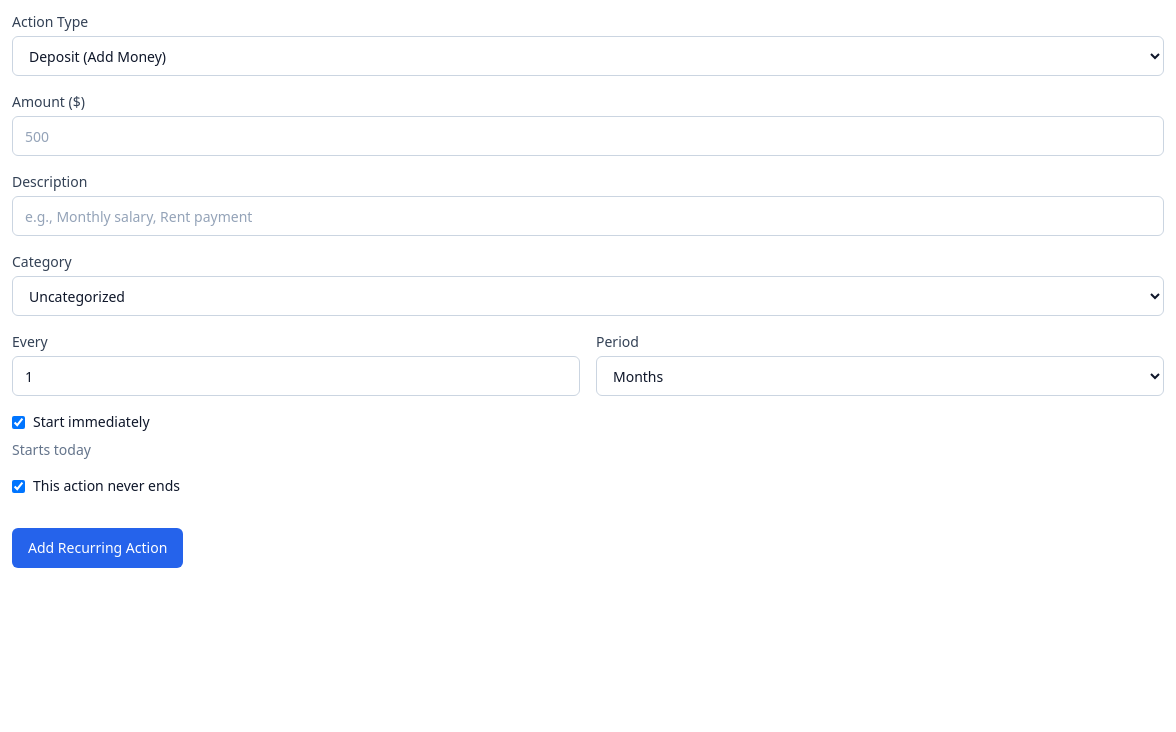
Test case: RecurringActionForm (create mode) › reveals an end date picker when "This action never ends" is unchecked
Click the checkbox labelled "This action never ends" at (18, 486), box [12,480,25,492]
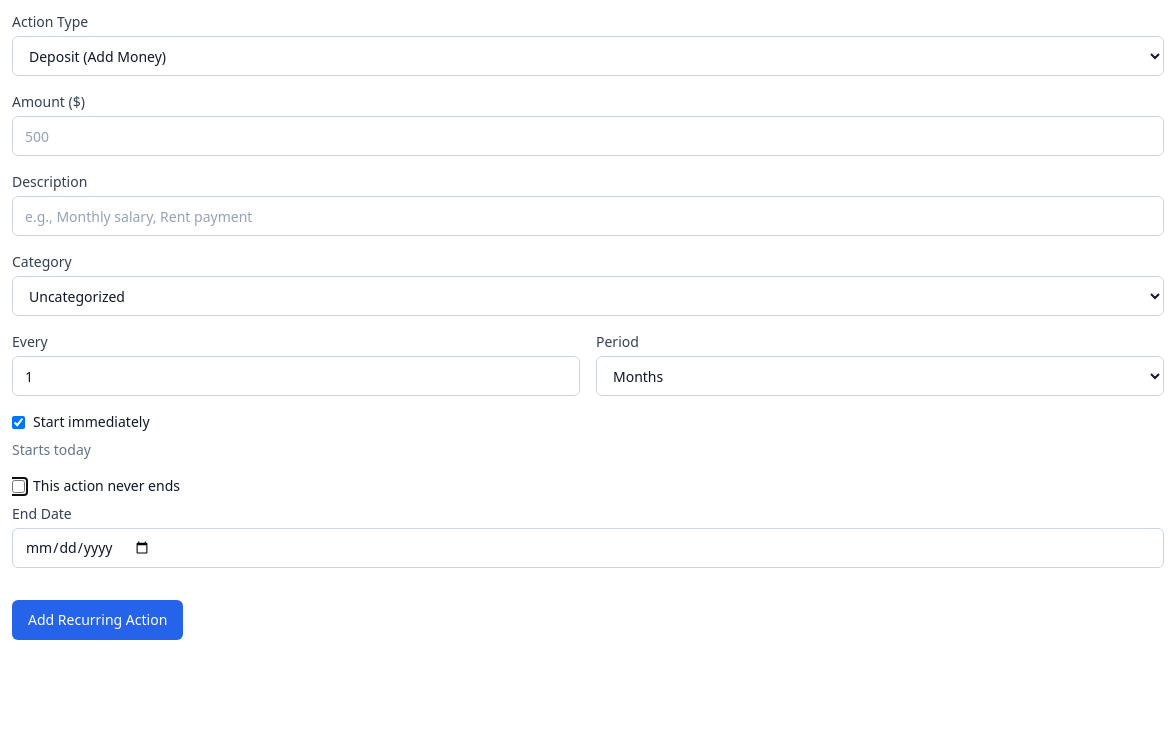
Result: the date field labelled "End Date" is shown at [12,528,1164,568]
